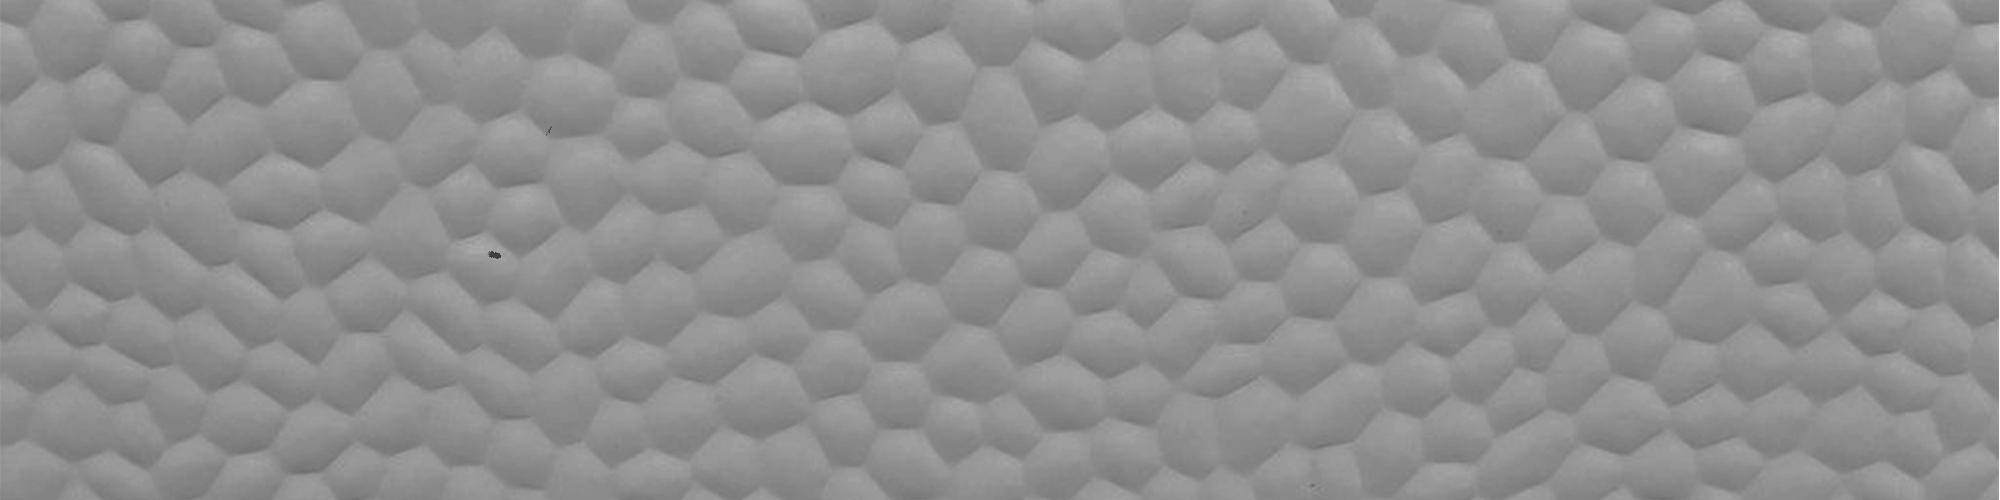Decomposed: (536, 119, 556, 145), (487, 240, 506, 264), (1297, 480, 1329, 492)
